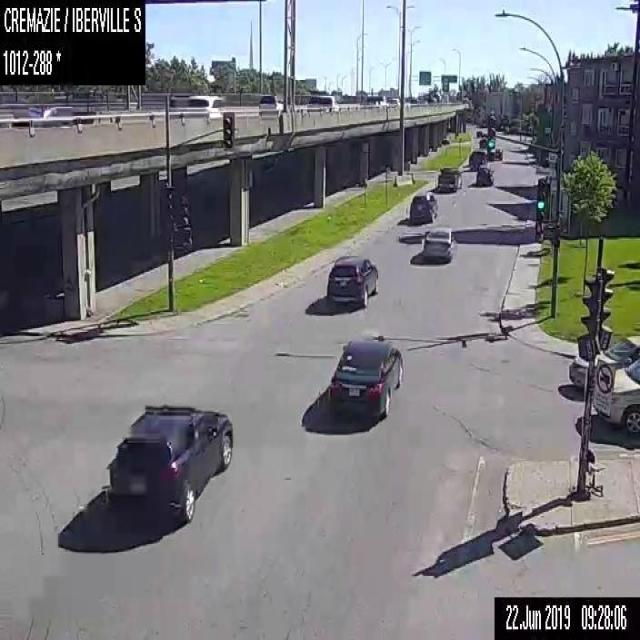vehicle: (108, 403, 234, 524), (330, 332, 404, 419), (568, 334, 639, 395), (592, 355, 639, 437), (326, 253, 378, 308), (13, 103, 95, 125), (185, 93, 232, 117), (423, 225, 455, 260), (409, 189, 438, 223), (436, 167, 462, 190), (258, 92, 284, 115), (307, 94, 339, 110), (468, 148, 487, 168), (476, 164, 494, 185), (367, 94, 387, 106), (388, 97, 401, 106), (493, 147, 502, 160), (478, 137, 487, 148), (476, 128, 482, 136), (481, 129, 487, 136)
